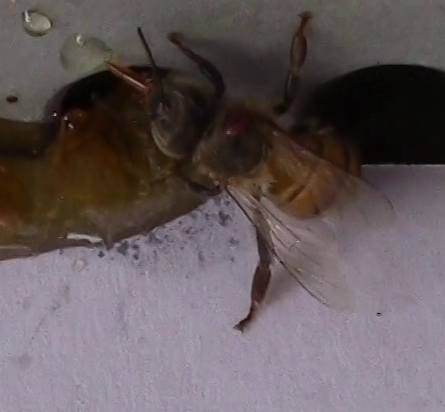Varroa destructor: (215, 111, 254, 145)
